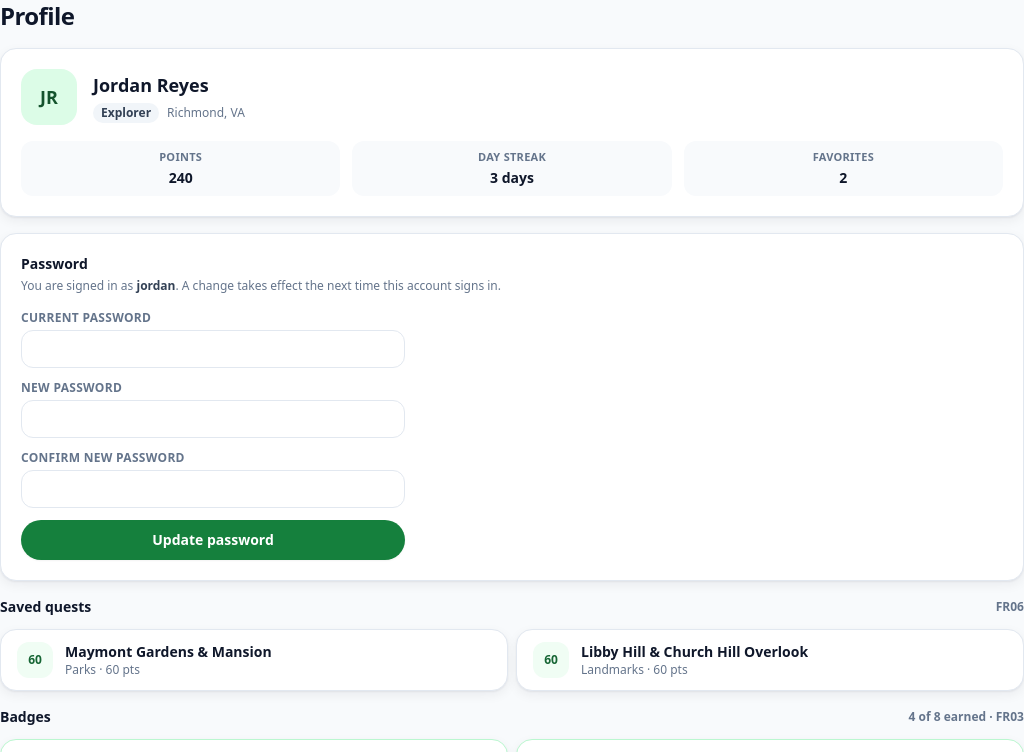
Test: ProfilePage — changing your own password › answers a wrong current password with the sign-in screen’s wording
Type "almost" into the password field labelled "Current password" at {"x": 213, "y": 348}, box [21,330,405,368]
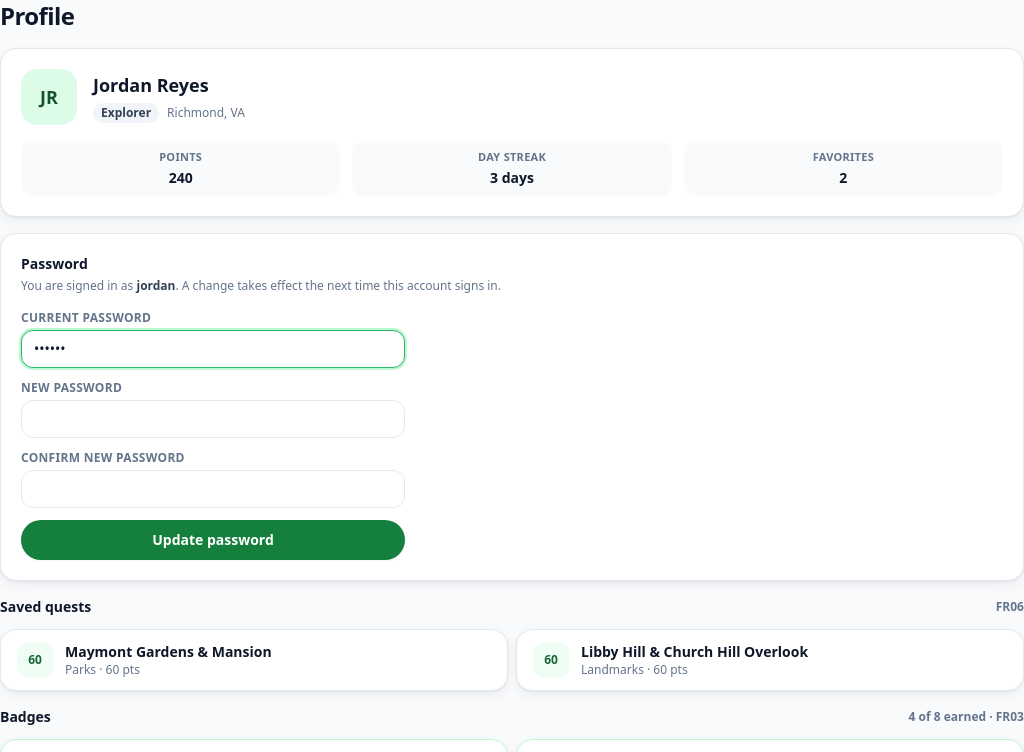
Type "new-rvaquest" into the password field labelled "New password" at {"x": 213, "y": 418}, box [21,400,405,438]
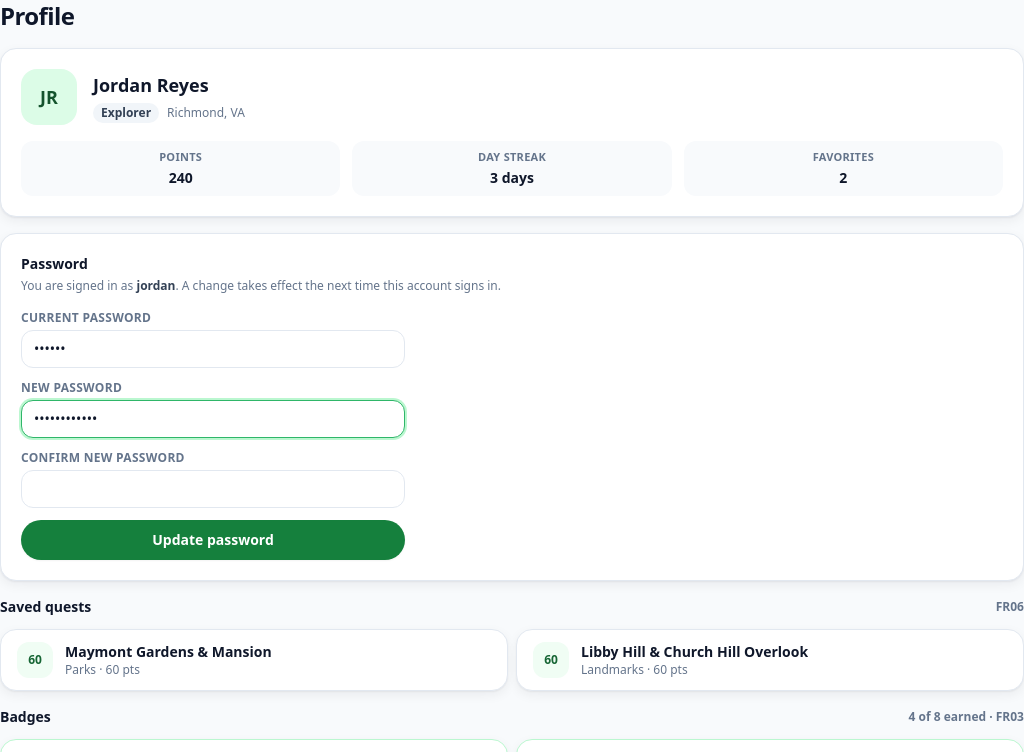
Type "new-rvaquest" into the password field labelled "Confirm new password" at {"x": 213, "y": 488}, box [21,470,405,508]
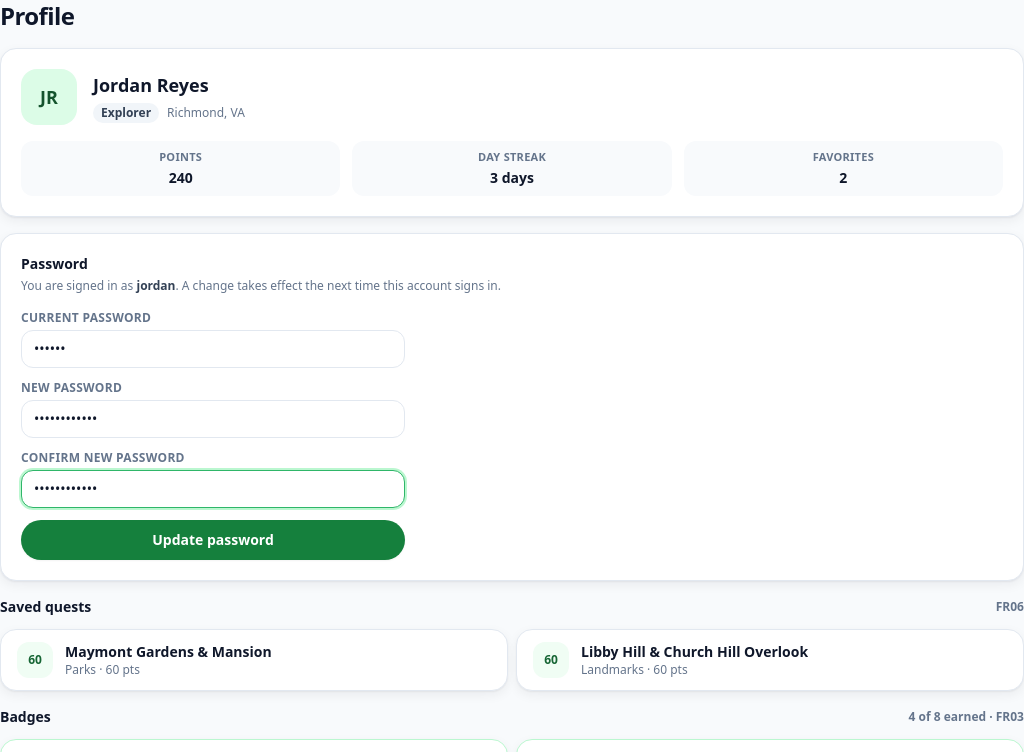
Click the button "Update password" at {"x": 213, "y": 540}, box [21,520,405,560]
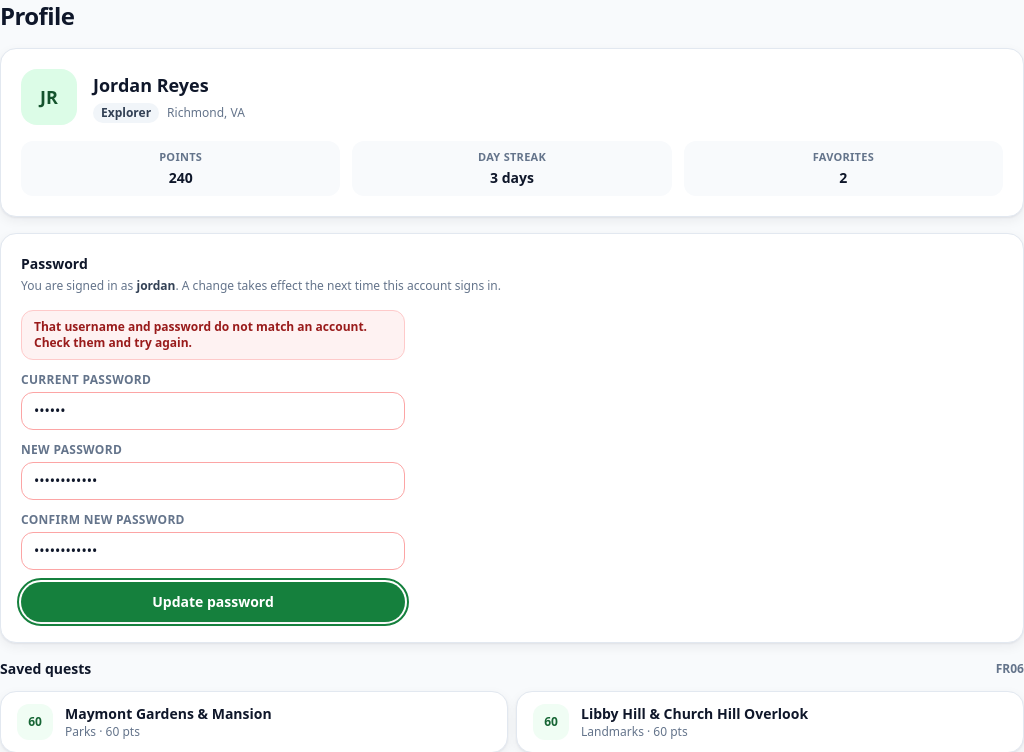
Result: the message reads "That username and password do not match an account. Check them and try again." at [34,318,367,350]
